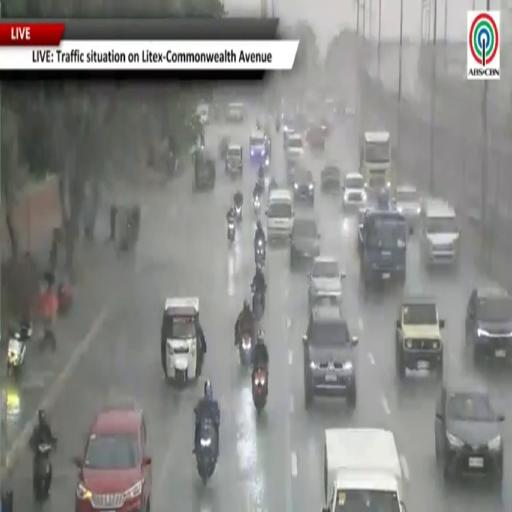car: (75, 406, 151, 511), (435, 380, 504, 483), (303, 306, 358, 408), (396, 295, 444, 378), (465, 285, 511, 363), (420, 199, 460, 266), (309, 256, 345, 311), (290, 218, 320, 267), (395, 185, 421, 232), (342, 173, 366, 210), (294, 168, 314, 205), (321, 166, 341, 194), (225, 144, 243, 175), (286, 133, 304, 161), (306, 124, 325, 150), (286, 160, 300, 186), (226, 103, 245, 122), (283, 127, 296, 149), (282, 115, 295, 134), (197, 104, 209, 124)
motorcycle: (196, 419, 218, 485), (6, 326, 31, 377), (33, 443, 52, 502), (252, 368, 267, 413), (57, 282, 73, 314), (239, 332, 252, 366), (252, 287, 264, 321), (255, 239, 265, 269), (252, 195, 261, 217), (228, 219, 235, 244), (235, 205, 242, 222)
truck: (322, 428, 405, 511), (358, 208, 408, 289), (360, 132, 392, 195), (249, 131, 270, 167)
